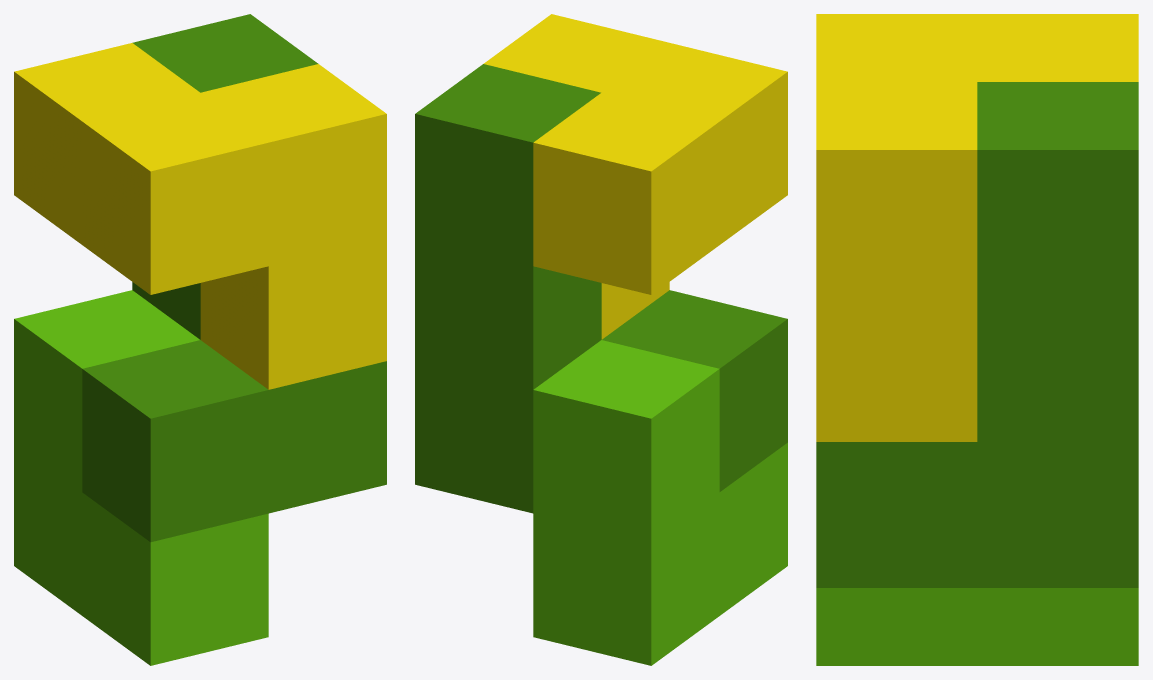
The picture shows the model from 3 angles, left to right: view 1: azimuth 30°, elevation 25°; view 2: azimuth 150°, elevation 25°; view 3: azimuth 270°, elevation 25°; orthographic projection. The views are drawn at different scales.
Visible parts, largest first — view 1: mergedBlocks(Clone); view 2: mergedBlocks(Clone); view 3: mergedBlocks(Clone).
Part boxes in pixels (<box>): mergedBlocks(Clone): <box>14,14,386,665</box>; mergedBlocks(Clone): <box>415,14,787,665</box>; mergedBlocks(Clone): <box>816,14,1138,665</box>.
Bounding box in the file's own units: 2 × 4 × 2.
Materials: 3 (3 with a texture image).
